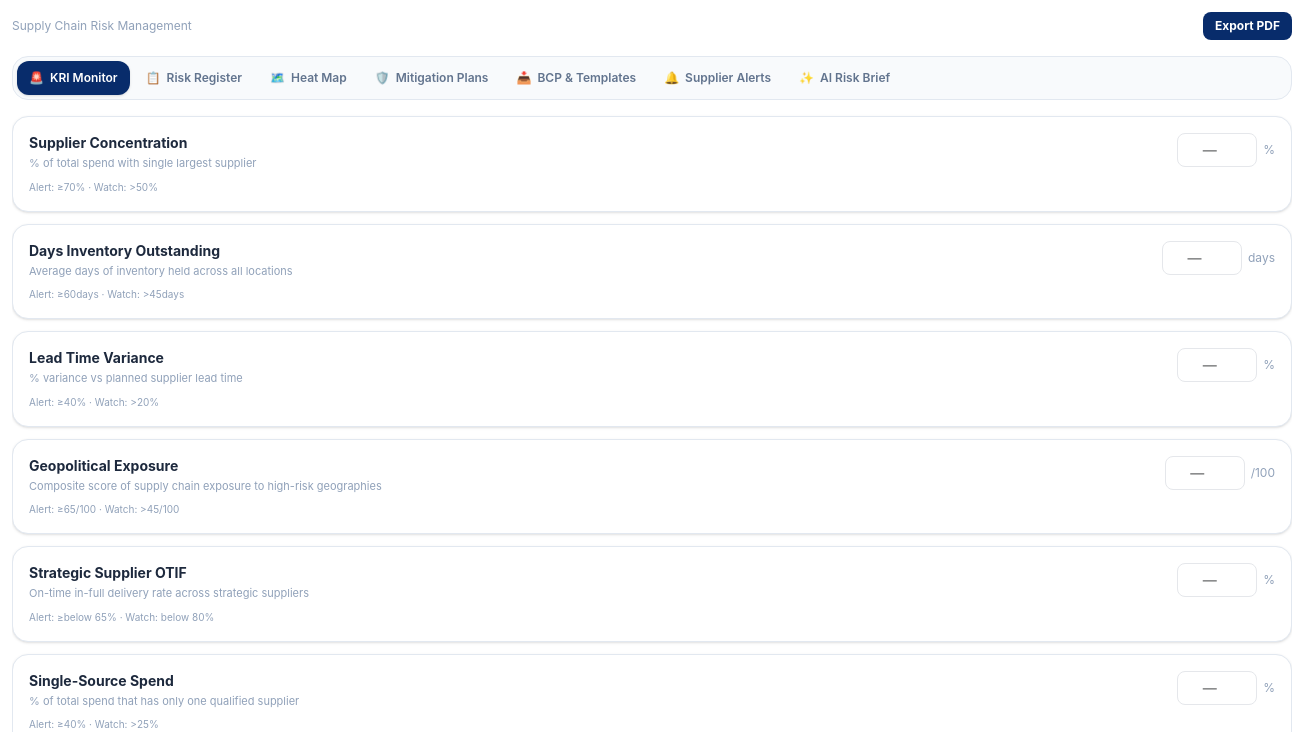
it: RiskTools — ARIA tab↔panel linkage › switching tab renders the new panel with correct linkage
Click the tab "📋 Risk Register" at (194,78), box [134,61,254,95]
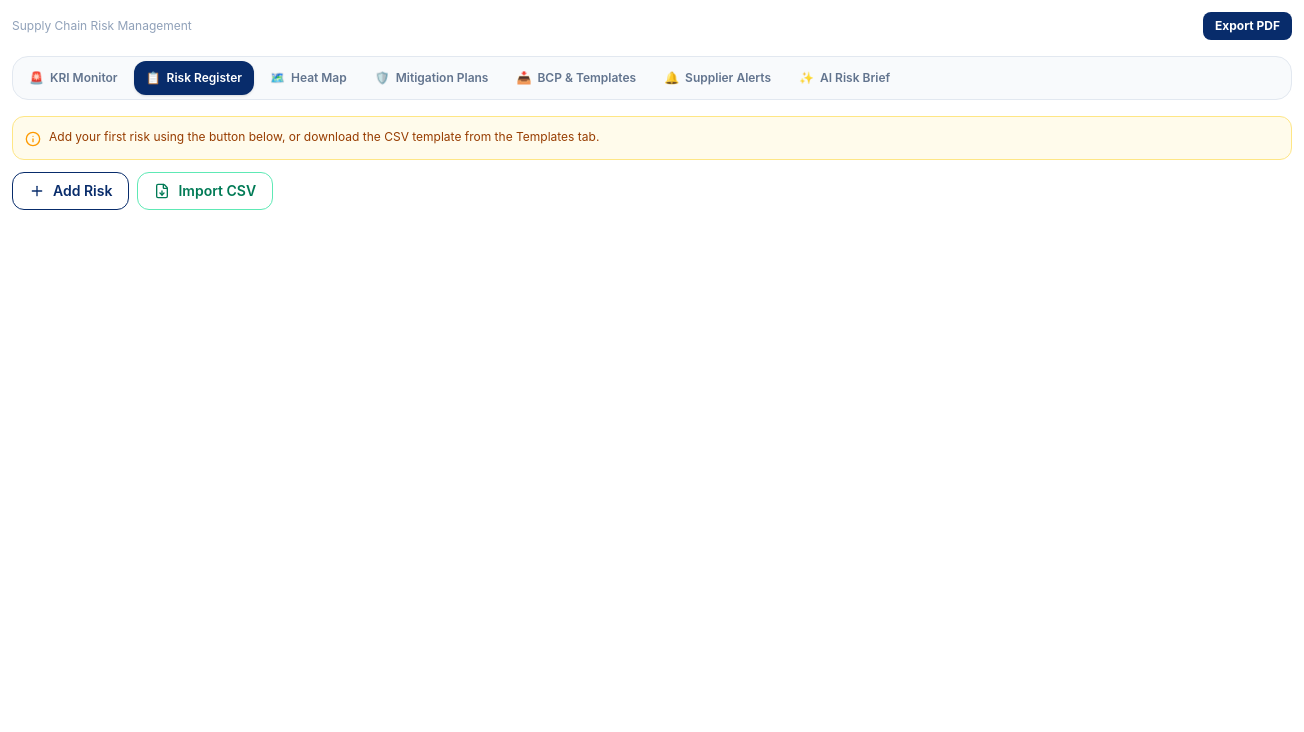
Expected: the panel is shown, [12,116,1292,210]
